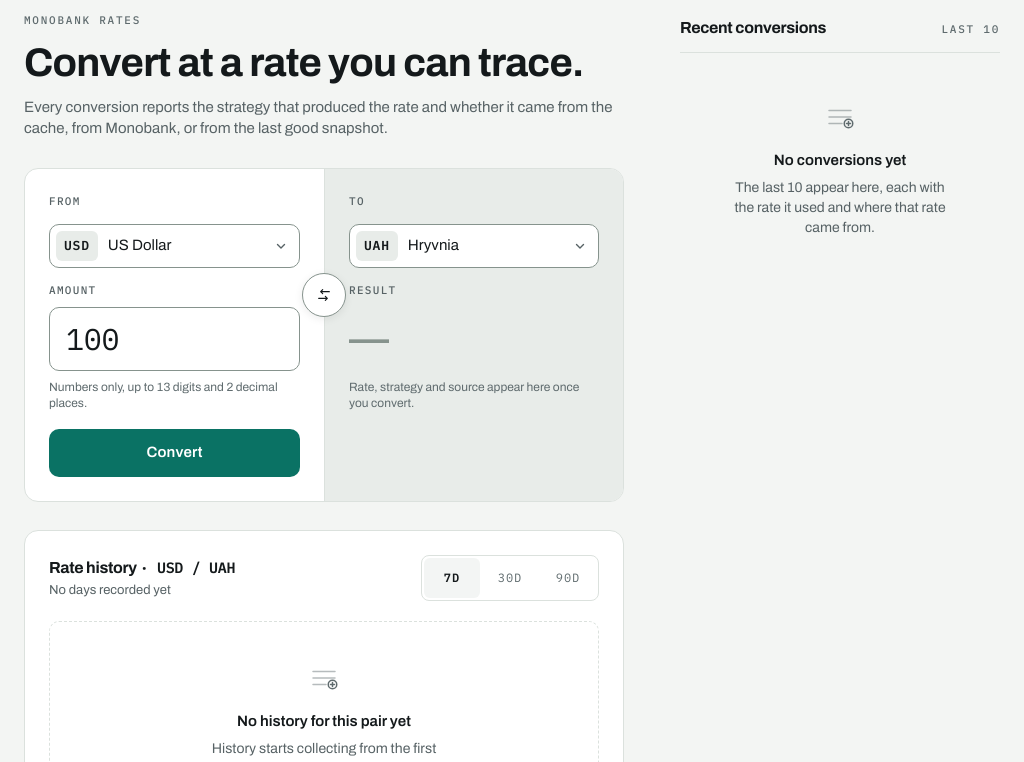
Test: the two-pane card › fills the same pane rather than opening a second card below it
Click the button "Convert" at (174, 453), box [49, 429, 300, 477]
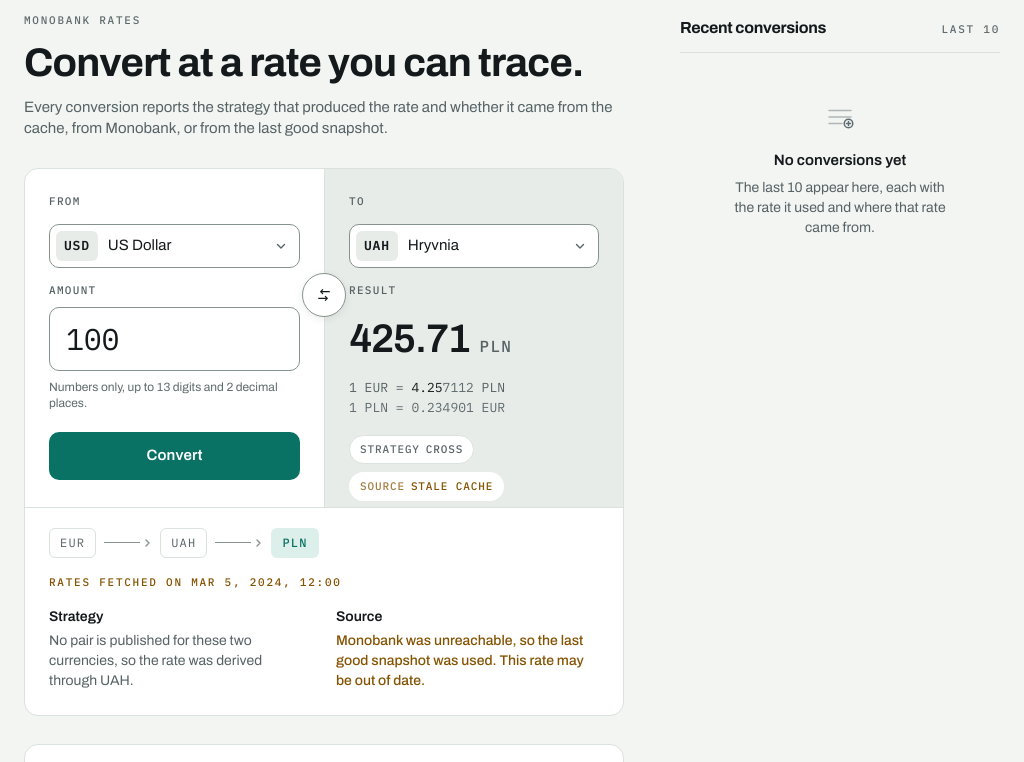
Check: the element "Result" shows "425.71 PLN", box [349, 283, 512, 416]
Check: the text "Strategy" is shown, box [49, 609, 103, 624]
Check: the list named "Conversion path: EUR → UAH → PLN" is shown, box [49, 528, 319, 558]
